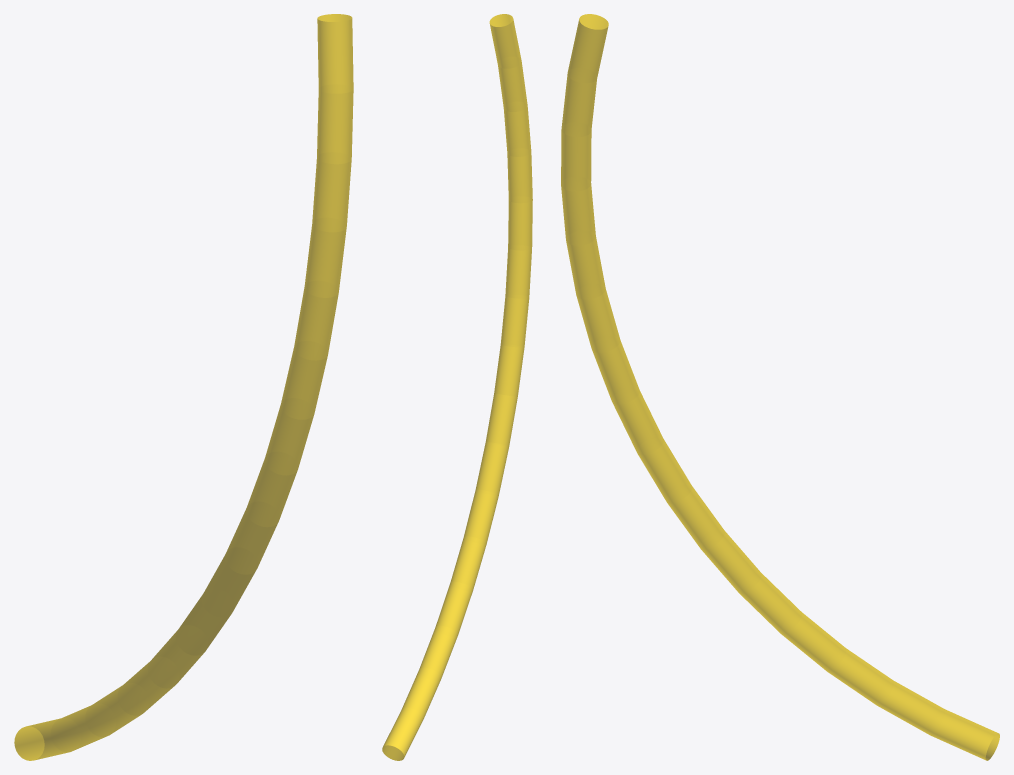
Rendered from Event_15818458_track_33.fbx.
3 renders of one model, left to right at view 1: azimuth 30°, elevation 25°; view 2: azimuth 150°, elevation 25°; view 3: azimuth 270°, elevation 25°, orthographic. The views are drawn at different scales.
Parts seen in each view (by area): view 1: Model; view 2: Model; view 3: Model.
Boxes of the visible parts, x1,y1,x2,y2 form: Model: [14, 14, 353, 760]; Model: [382, 14, 532, 760]; Model: [561, 14, 999, 760].
Size of the model in its own units: 0.1375 by 1.13 by 0.5809.
